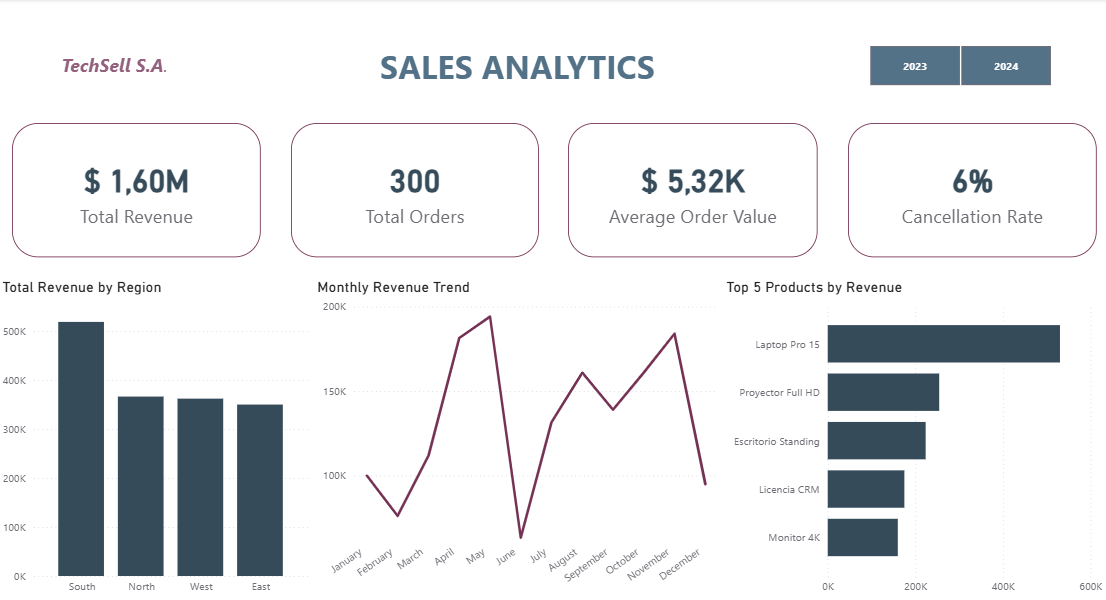

This screenshot's page, from the dashboard's own definition file:
{"tool":"powerbi","page":{"name":"Page 1","canvas":[1280,720],"ordinal":0},"visuals":[{"type":"card","fields":{"Values":["_medidas.Ventas Totales"]},"box":[16.2,143.1,287.3,154.6],"z":0},{"type":"card","fields":{"Values":["_medidas.Tasa de cancelación"]},"box":[980.8,143.1,287.3,154.6],"z":1000},{"type":"card","fields":{"Values":["_medidas.Total de pedidos"]},"box":[337.7,143.1,286.2,154.6],"z":2000},{"type":"card","fields":{"Values":["_medidas.Ticket promedio"]},"box":[658.1,143.1,288.5,154.6],"z":3000},{"type":"columnChart","title":"Ventas Totales por Región","fields":{"Category":["dim_clientes.region"],"Y":["_medidas.Ventas Totales"]},"box":[0,321.9,363.5,373.8],"z":4000},{"type":"clusteredBarChart","title":"Top 5 Productos por Revenue","fields":{"Category":["dim_productos.nombre_producto"],"Y":["_medidas.Ventas Totales"]},"box":[835.4,321.9,444.2,373.8],"z":5000},{"type":"lineChart","title":"Evolución Mensual de Ventas","fields":{"Category":["fact_pedidos.fecha_pedido.Variation.Date Hierarchy.Month"],"Y":["_medidas.Ventas Totales"]},"box":[363.5,321.9,471.9,373.8],"z":6000},{"type":"slicer","fields":{"Values":["fact_pedidos.fecha_pedido.Variation.Date Hierarchy.Year"]},"box":[980.3,47.5,258.1,59],"z":7000},{"type":"textbox","box":[390.6,47.3,416.5,58.8],"z":8000},{"type":"textbox","box":[52.1,56.4,165.5,41.7],"z":9000}]}

Visuals, with their boxes on the page's 1280x720 design canvas (x1, y1, x2, y2). These are canvas units, not pixel positions in the 1106x600 screenshot, which may show the page scaled, cropped or inside an application window:
card - _medidas.Ventas Totales: l=16, t=143, r=304, b=298
card - _medidas.Tasa de cancelación: l=981, t=143, r=1268, b=298
card - _medidas.Total de pedidos: l=338, t=143, r=624, b=298
card - _medidas.Ticket promedio: l=658, t=143, r=947, b=298
"Ventas Totales por Región" columnChart: l=0, t=322, r=364, b=696
"Top 5 Productos por Revenue" clusteredBarChart: l=835, t=322, r=1280, b=696
"Evolución Mensual de Ventas" lineChart: l=364, t=322, r=835, b=696
slicer - fact_pedidos.fecha_pedido.Variation.Date Hierarchy.Year: l=980, t=48, r=1238, b=106
textbox: l=391, t=47, r=807, b=106
textbox: l=52, t=56, r=218, b=98
